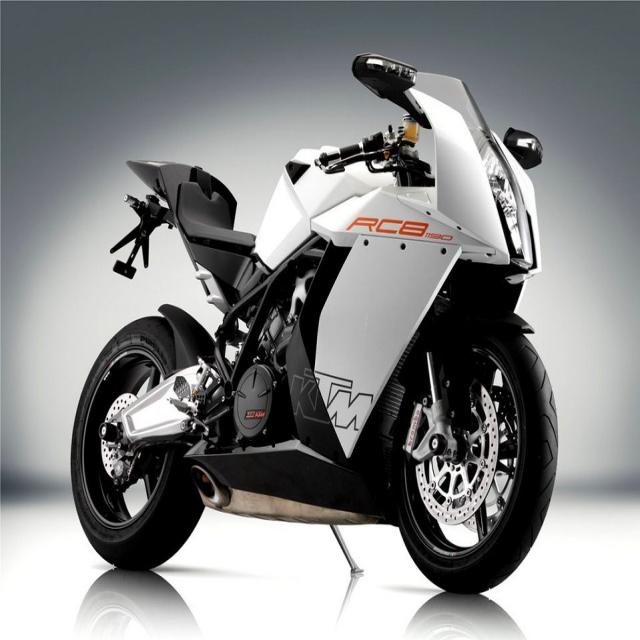motorcycle: (71, 55, 558, 593)
